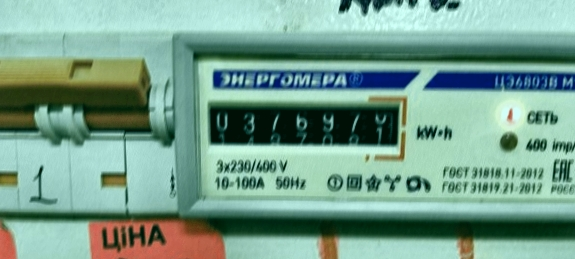0: (212, 109, 226, 131)
1: (370, 125, 382, 145)
3: (239, 112, 254, 134)
6: (291, 107, 306, 130)
7: (264, 109, 279, 132), (345, 110, 359, 133)
9: (317, 109, 332, 132)
screen: (196, 91, 407, 165)
